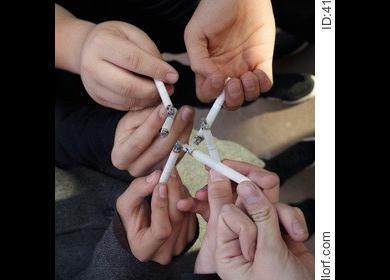Cigarette: (182, 144, 252, 184), (193, 77, 234, 142), (158, 140, 180, 187), (202, 120, 222, 169), (153, 78, 172, 113), (161, 107, 179, 137)
